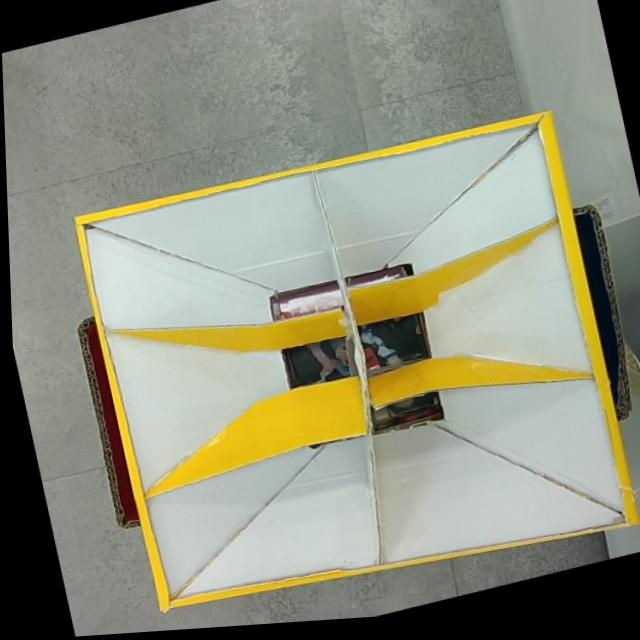box: (47, 99, 640, 638)
